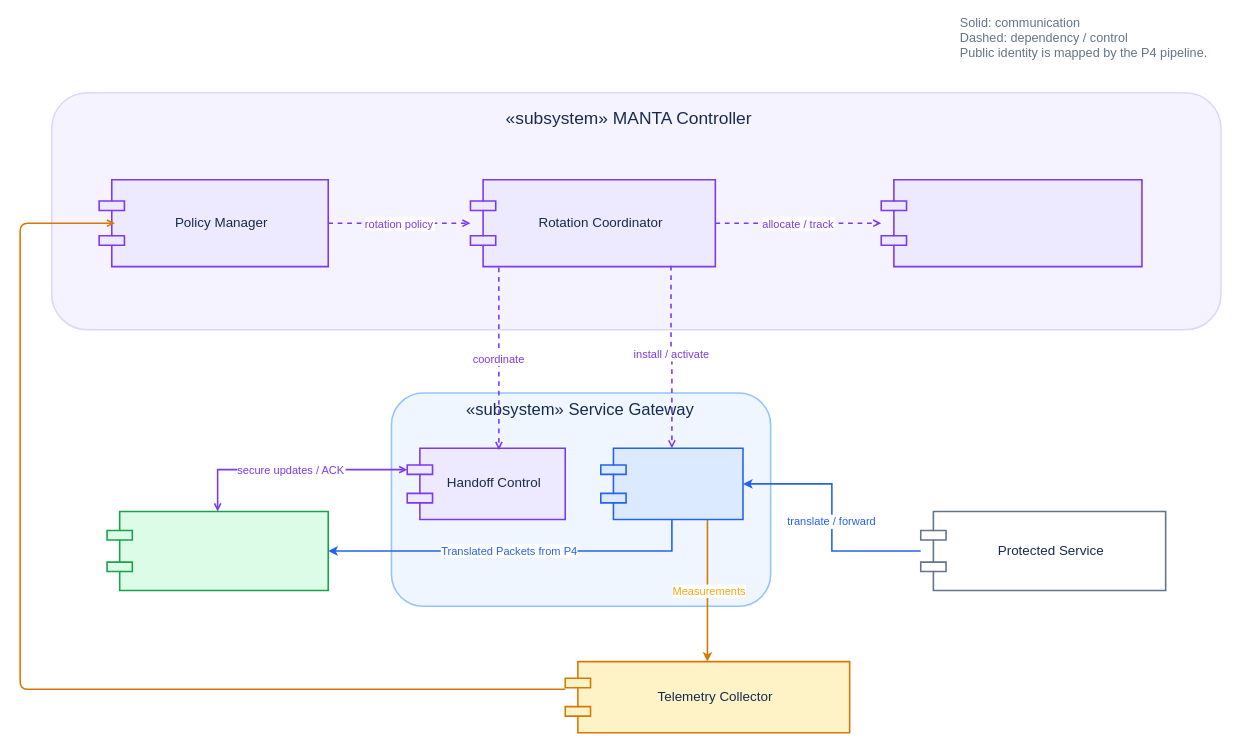
The diagram is 1235 pixels wide and 747 high, and some of its shapes have lost their labels. Here are the shapes that lost their labels. From the top down, the centre of each, then its label:
At pixel 1011 223: "Identity Pool Generations".
At pixel 671 483: "P4 Pipeline".
At pixel 217 550: "MANTA Client Agent".
